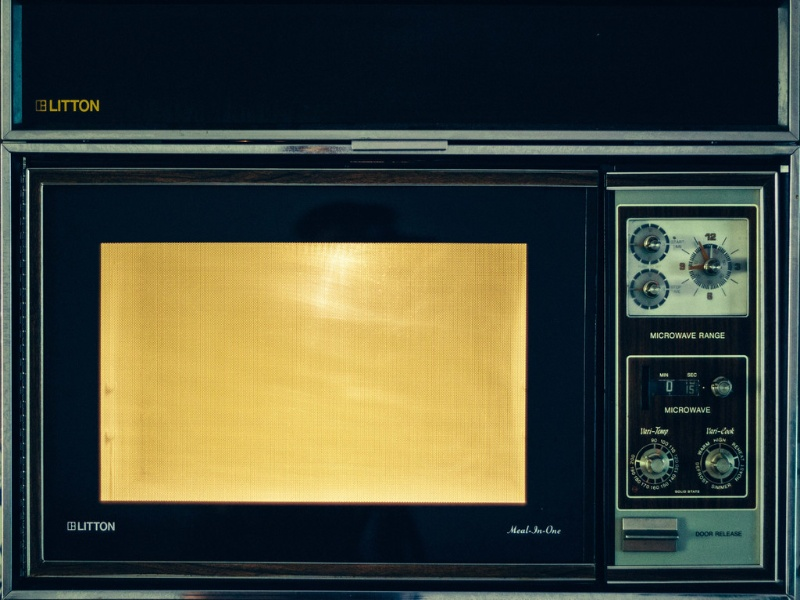oven: (3, 139, 794, 597)
